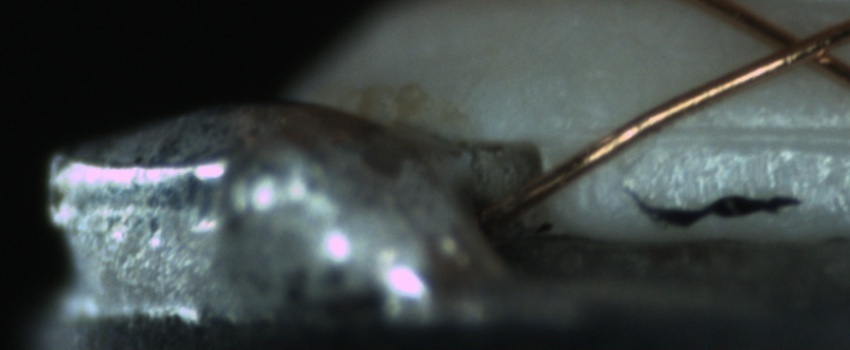CL: (747, 13, 847, 79)
DL: (614, 98, 842, 163)
